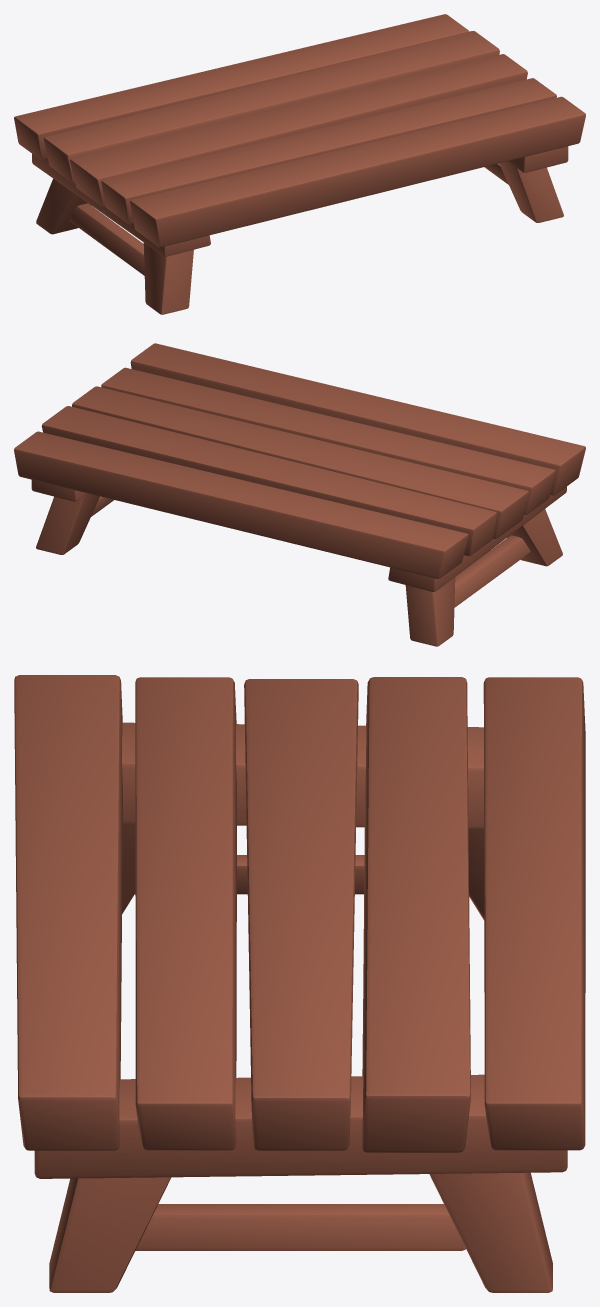
File: table.gltf
3 views of the same model, one above another, from view 1: azimuth 30°, elevation 25°; view 2: azimuth 150°, elevation 25°; view 3: azimuth 270°, elevation 25° (orthographic). The views are drawn at different scales.
Parts seen in each view (by area): view 1: tableLarge; view 2: tableLarge; view 3: tableLarge.
Boxes of the visible parts, x1=… form: tableLarge: x1=14, y1=14, x2=585, y2=314; tableLarge: x1=14, y1=343, x2=585, y2=646; tableLarge: x1=14, y1=675, x2=585, y2=1292.
Bounding box in the file's own units: 3 × 0.7073 × 1.71.
